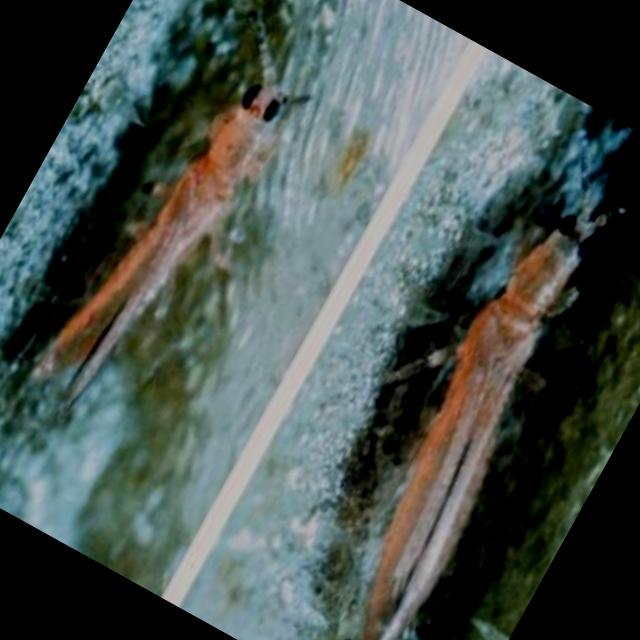melon thrips: (232, 147, 640, 640), (0, 0, 363, 468)
